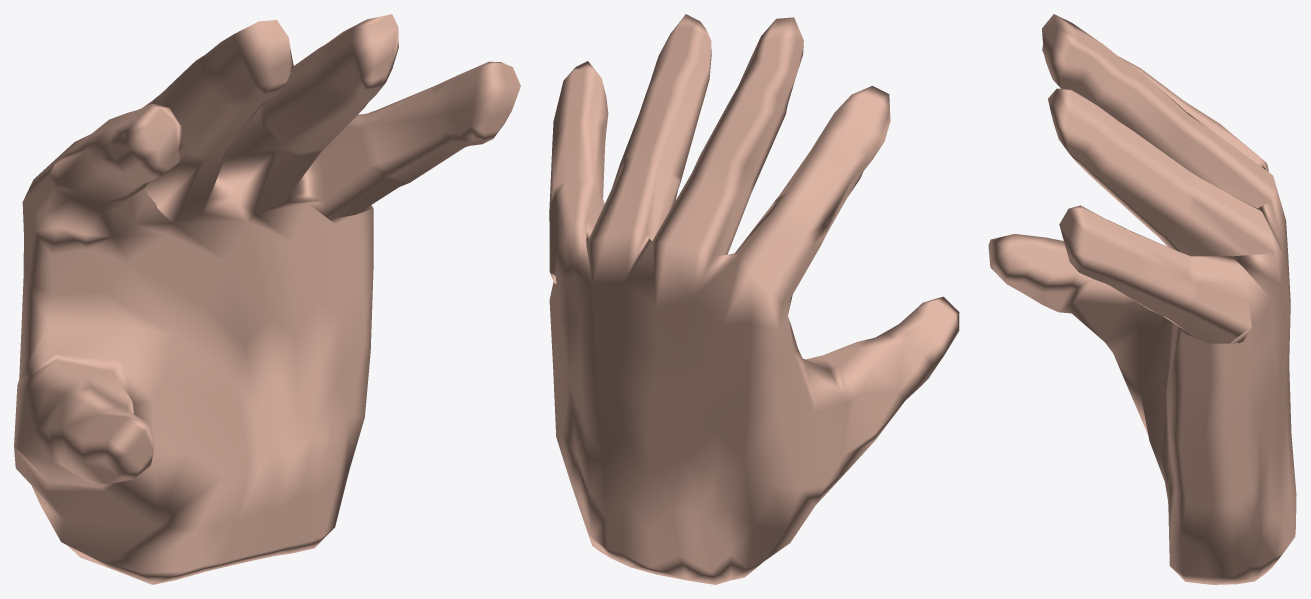
Rendered from ANGULO_ABERTO_AFASTADO.obj.
The picture shows the model from 3 angles, left to right: view 1: azimuth 30°, elevation 25°; view 2: azimuth 150°, elevation 25°; view 3: azimuth 270°, elevation 25°; orthographic projection. The views are drawn at different scales.
Parts seen in each view (by area): view 1: mao_dir polySurface1; view 2: mao_dir polySurface1; view 3: mao_dir polySurface1.
Part boxes in pixels (box(x1,y1,x2,y2)): mao_dir polySurface1: box(14, 14, 520, 584); mao_dir polySurface1: box(549, 14, 959, 584); mao_dir polySurface1: box(988, 14, 1296, 584).
Bounding box in the file's own units: 167 × 214 × 116.
